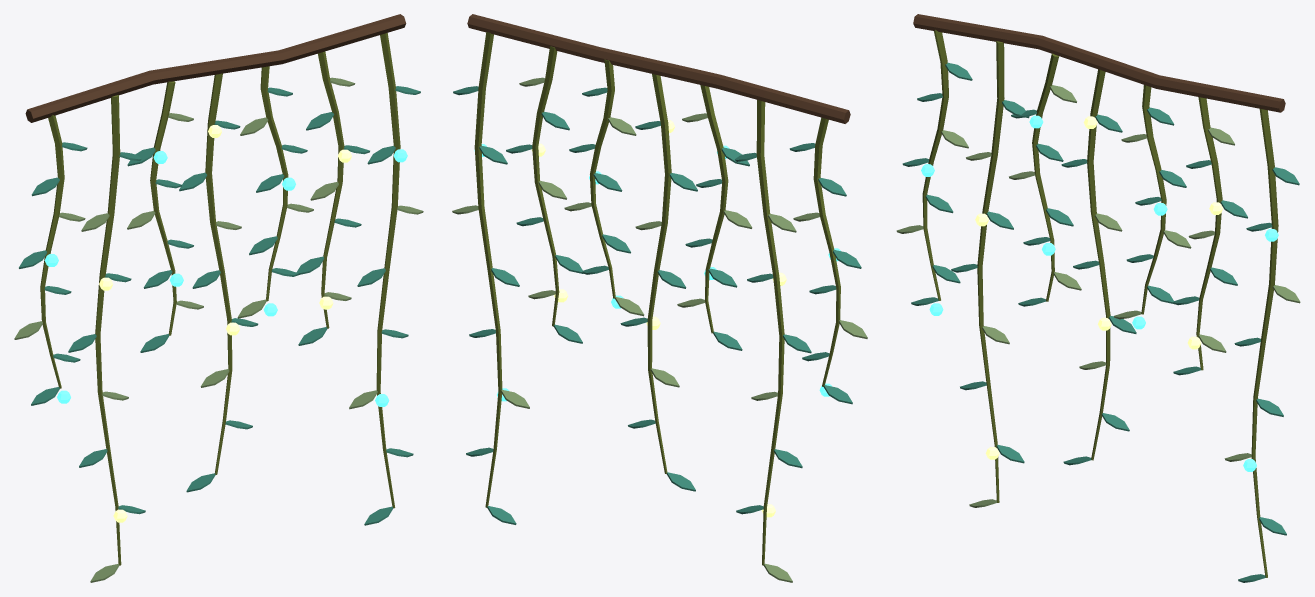
File: deco_hanging_vines.fbx
3 views of the same model, side by side, from view 1: azimuth 30°, elevation 25°; view 2: azimuth 150°, elevation 25°; view 3: azimuth 330°, elevation 25° (orthographic). The views are drawn at different scales.
Visible parts, largest first — view 1: HangingVines_Anchor, HangingVines_Vine7, HangingVines_Vine2, HangingVines_Vine4, HangingVines_Vine1, HangingVines_Vine6, HangingVines_Vine3, HangingVines_Vine5; view 2: HangingVines_Anchor, HangingVines_Vine2, HangingVines_Vine7, HangingVines_Vine4, HangingVines_Vine6, HangingVines_Vine1, HangingVines_Vine3, HangingVines_Vine5; view 3: HangingVines_Anchor, HangingVines_Vine7, HangingVines_Vine2, HangingVines_Vine4, HangingVines_Vine1, HangingVines_Vine6, HangingVines_Vine3, HangingVines_Vine5.
Boxes of the visible parts, x1,y1,x2,y2 form: HangingVines_Anchor: (25,14,406,122); HangingVines_Vine7: (349,33,423,525); HangingVines_Vine2: (68,95,145,582); HangingVines_Vine4: (179,73,258,492); HangingVines_Vine1: (14,115,87,405); HangingVines_Vine6: (296,51,369,345); HangingVines_Vine3: (127,81,203,352); HangingVines_Vine5: (237,66,313,318); HangingVines_Anchor: (467,14,850,123); HangingVines_Vine2: (735,100,811,582); HangingVines_Vine7: (452,32,529,524); HangingVines_Vine4: (620,73,697,491); HangingVines_Vine6: (506,46,583,343); HangingVines_Vine1: (789,117,867,404); HangingVines_Vine3: (677,85,752,350); HangingVines_Vine5: (564,59,644,316); HangingVines_Anchor: (913,14,1285,112); HangingVines_Vine7: (1224,109,1300,582); HangingVines_Vine2: (951,41,1029,507); HangingVines_Vine4: (1061,69,1136,465); HangingVines_Vine1: (896,29,972,315); HangingVines_Vine6: (1173,97,1247,375); HangingVines_Vine3: (1009,53,1081,306); HangingVines_Vine5: (1114,85,1191,329).
Size of the model in its own units: 198 by 230 by 14.
